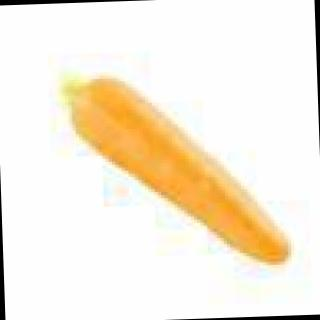Wortel: (43, 57, 297, 286)
